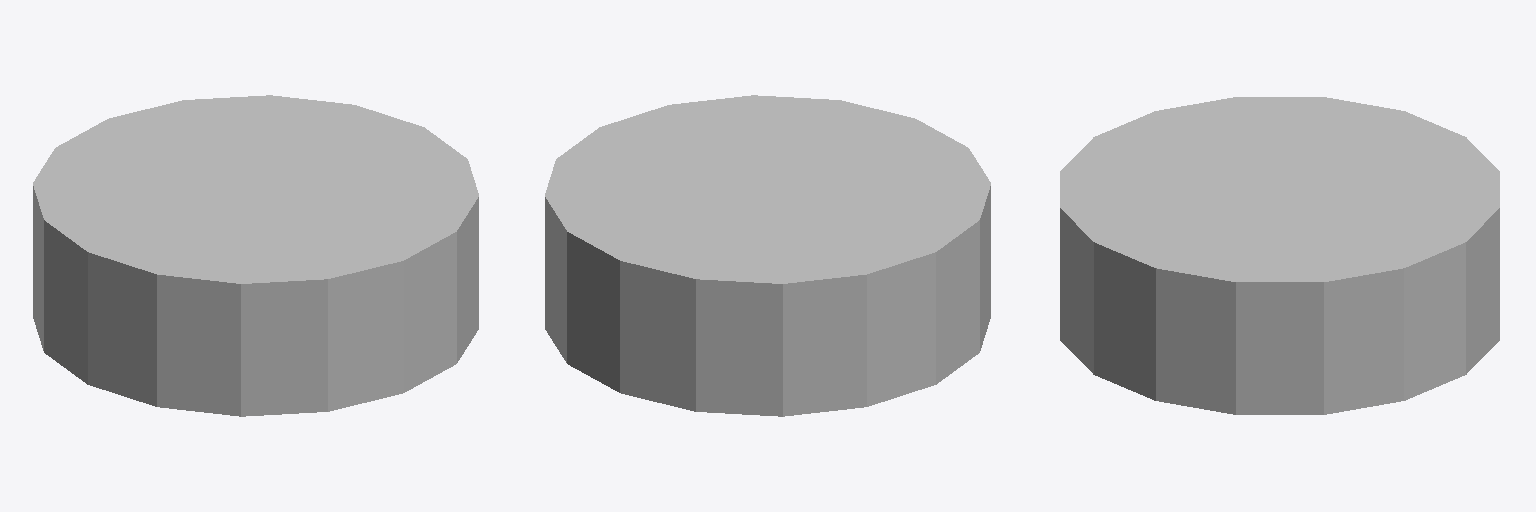
File: Auriga_Engine_1_Collider.obj
3 views of the same model, side by side, from view 1: azimuth 30°, elevation 25°; view 2: azimuth 150°, elevation 25°; view 3: azimuth 270°, elevation 25° (orthographic).
Visible parts, largest first — view 1: Auriga_Engine_1_Collider; view 2: Auriga_Engine_1_Collider; view 3: Auriga_Engine_1_Collider.
Boxes of the visible parts, box(x1,y1,x2,y2) form: Auriga_Engine_1_Collider: box(33, 95, 478, 416); Auriga_Engine_1_Collider: box(545, 95, 990, 416); Auriga_Engine_1_Collider: box(1060, 97, 1499, 414).
Bounding box in the file's own units: 1.88 × 0.625 × 1.88.